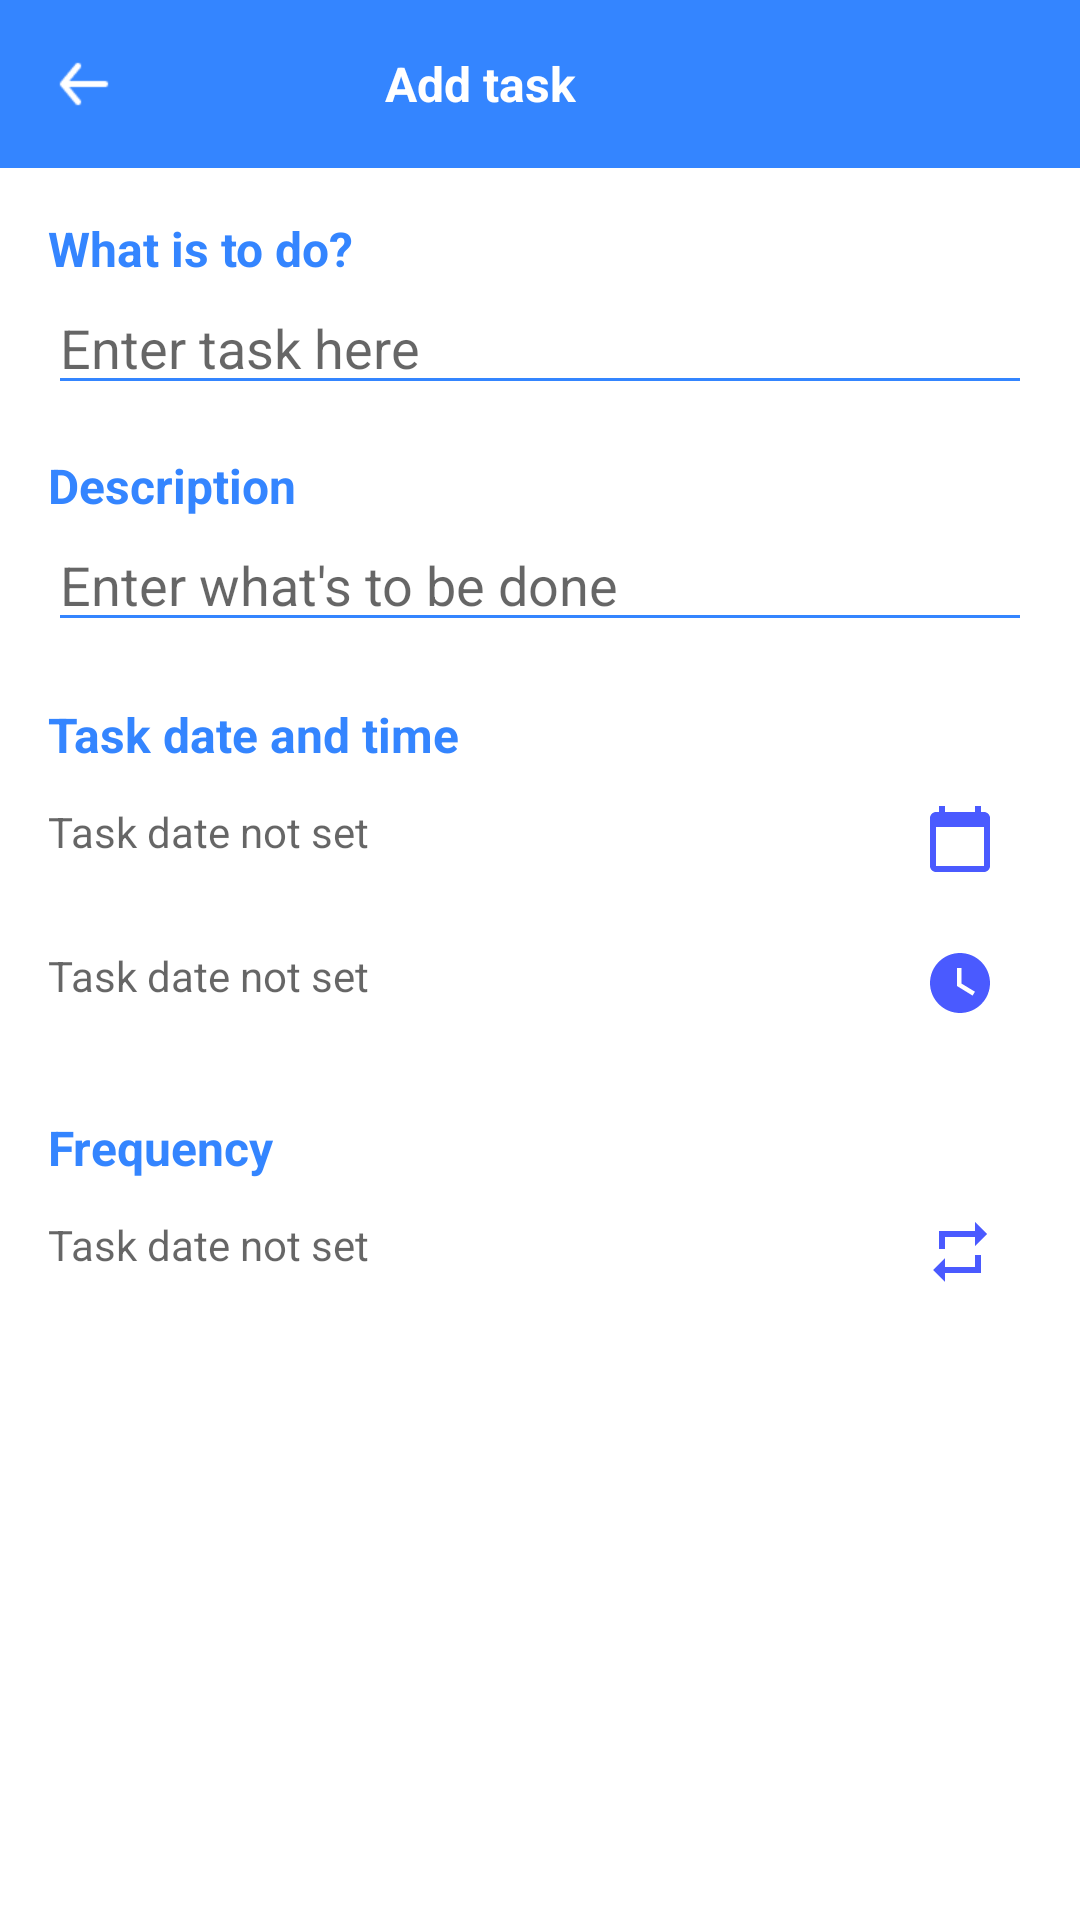

Named icons in this screenshot (1080 × 1920) and their bounding boxes, (x1, y1, x2, y2):
arrow left: (59, 62, 109, 106)
calendar: (930, 806, 990, 872)
repeat: (933, 1222, 987, 1282)
watch: (930, 953, 990, 1013)
